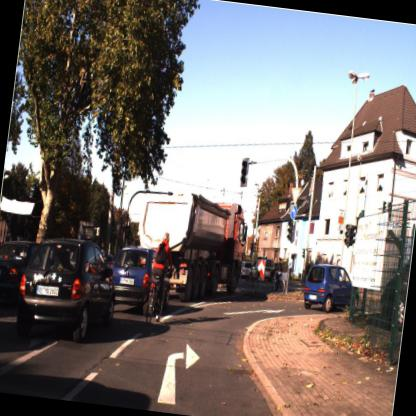mandatory: (286, 202, 298, 223)
other: (288, 183, 303, 206)
